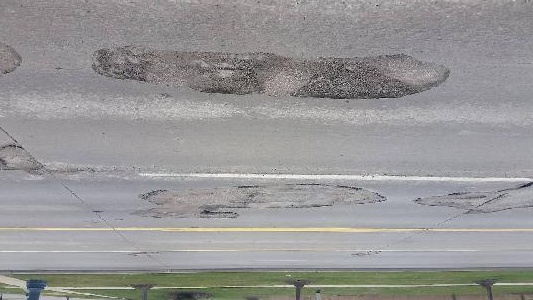pothole: (288, 62, 415, 99), (190, 55, 265, 99), (92, 47, 151, 85), (198, 206, 216, 218)
